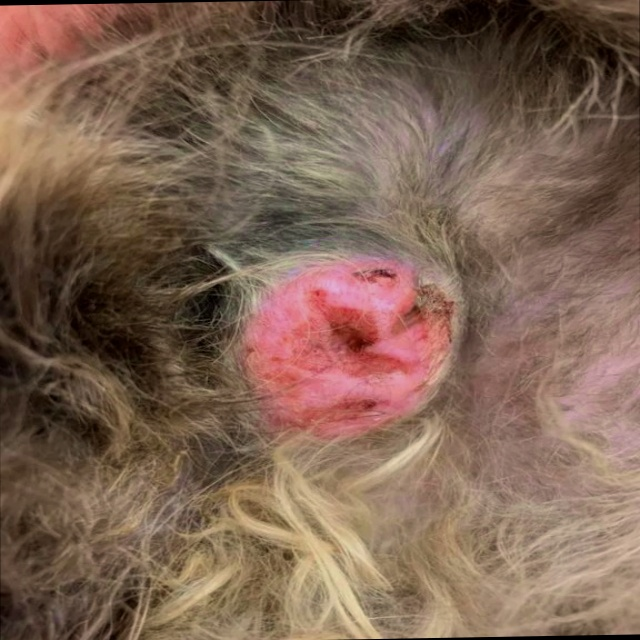lump_and_bump: (236, 241, 490, 439)
